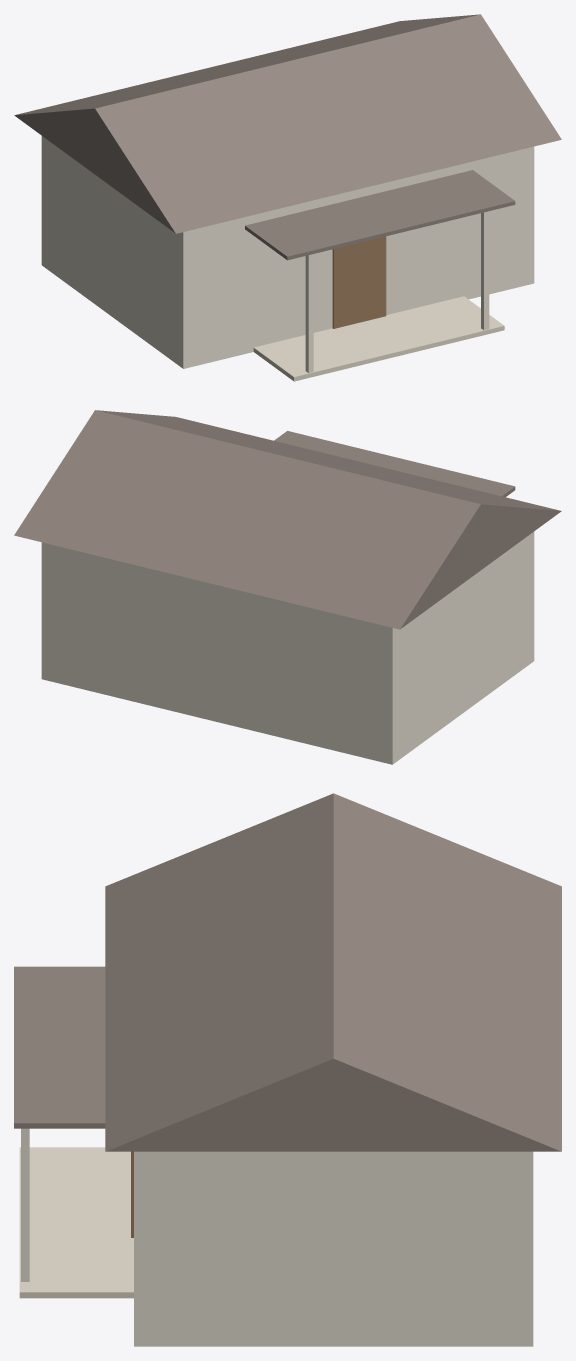
File: clubhouse_small.glb
The picture shows the model from 3 angles, top to bottom: view 1: azimuth 30°, elevation 25°; view 2: azimuth 150°, elevation 25°; view 3: azimuth 270°, elevation 25°; orthographic projection. The views are drawn at different scales.
Parts seen in each view (by area): view 1: ClubhouseSmall; view 2: ClubhouseSmall; view 3: ClubhouseSmall.
Boxes of the visible parts, x1,y1,x2,y2 form: ClubhouseSmall: (14, 14, 561, 381); ClubhouseSmall: (14, 410, 561, 764); ClubhouseSmall: (14, 793, 561, 1346).
Bounding box in the file's own units: 11 × 5.8 × 9.6.
